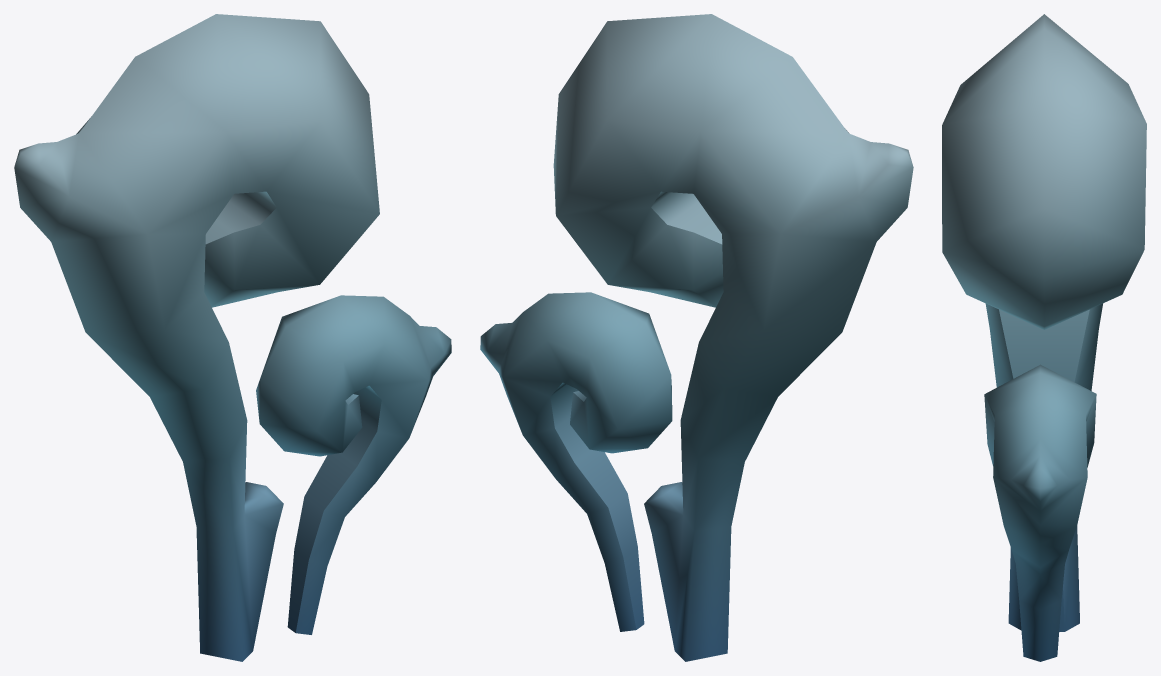
The model's file is prop-nom_lichen_3.glb.
3 views of the same model, side by side, from view 1: azimuth 30°, elevation 25°; view 2: azimuth 150°, elevation 25°; view 3: azimuth 270°, elevation 25° (orthographic). The views are drawn at different scales.
Visible parts, largest first — view 1: prop-nom_lichen_3; view 2: prop-nom_lichen_3; view 3: prop-nom_lichen_3.
Boxes of the visible parts, x1=… form: prop-nom_lichen_3: x1=14, y1=14, x2=451, y2=661; prop-nom_lichen_3: x1=480, y1=14, x2=913, y2=661; prop-nom_lichen_3: x1=942, y1=14, x2=1146, y2=661.
Bounding box in the file's own units: 2.78 × 3.88 × 1.22.
